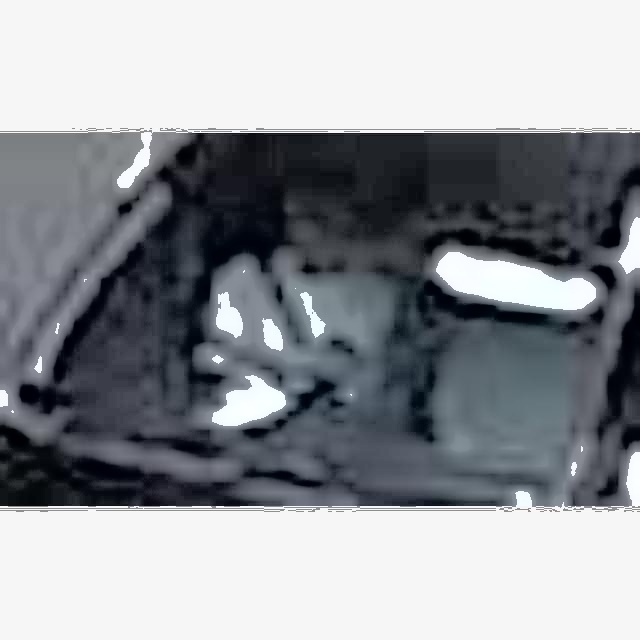pakai: (187, 257, 373, 417)
